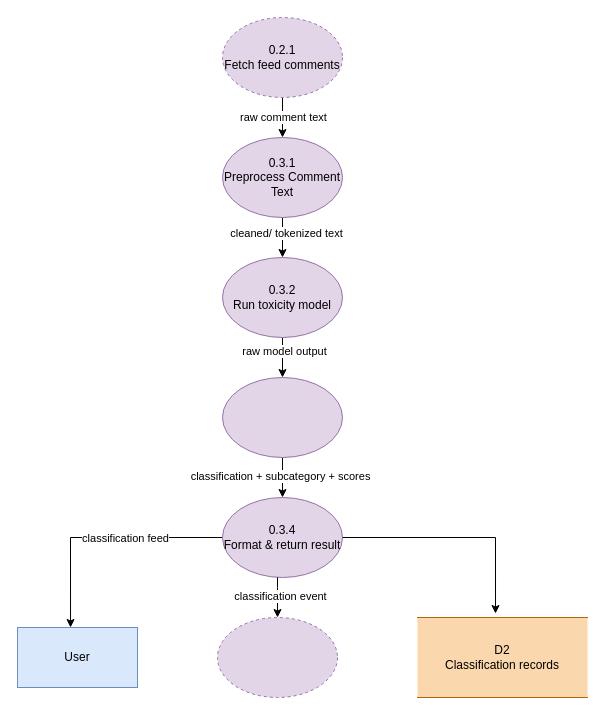
Image size: 605x715. Some labels were removed from this diagram. The centre of each missing label's shape, as x and y in pixels:
"0.3.3 Determine subcategory & toxicity score" belongs at (x=282, y=417).
"0.4.1 Log Activity" belongs at (x=277, y=657).
